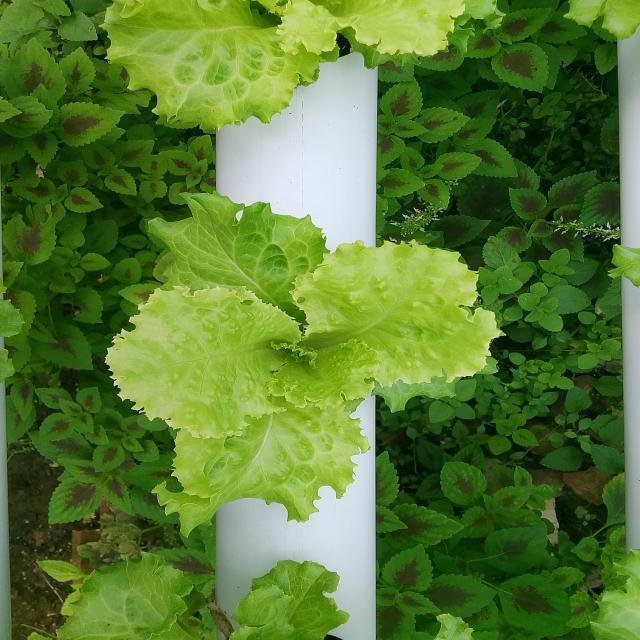Baby: (106, 194, 500, 517), (101, 0, 504, 130)
